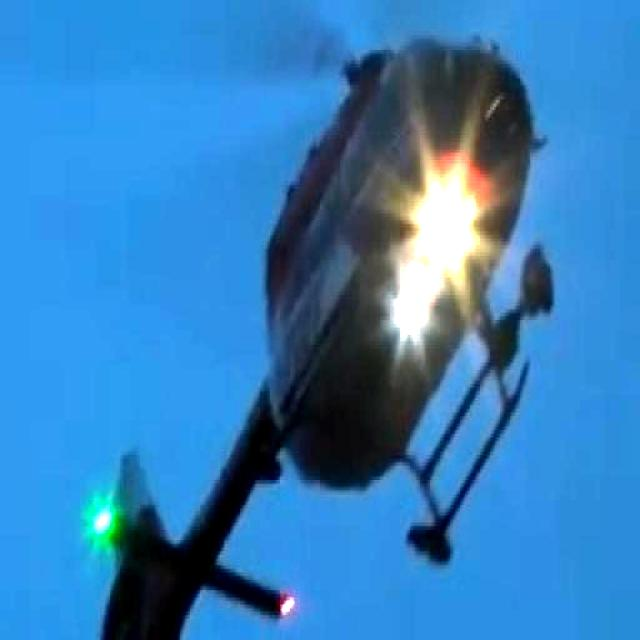drone: (86, 28, 556, 640)
